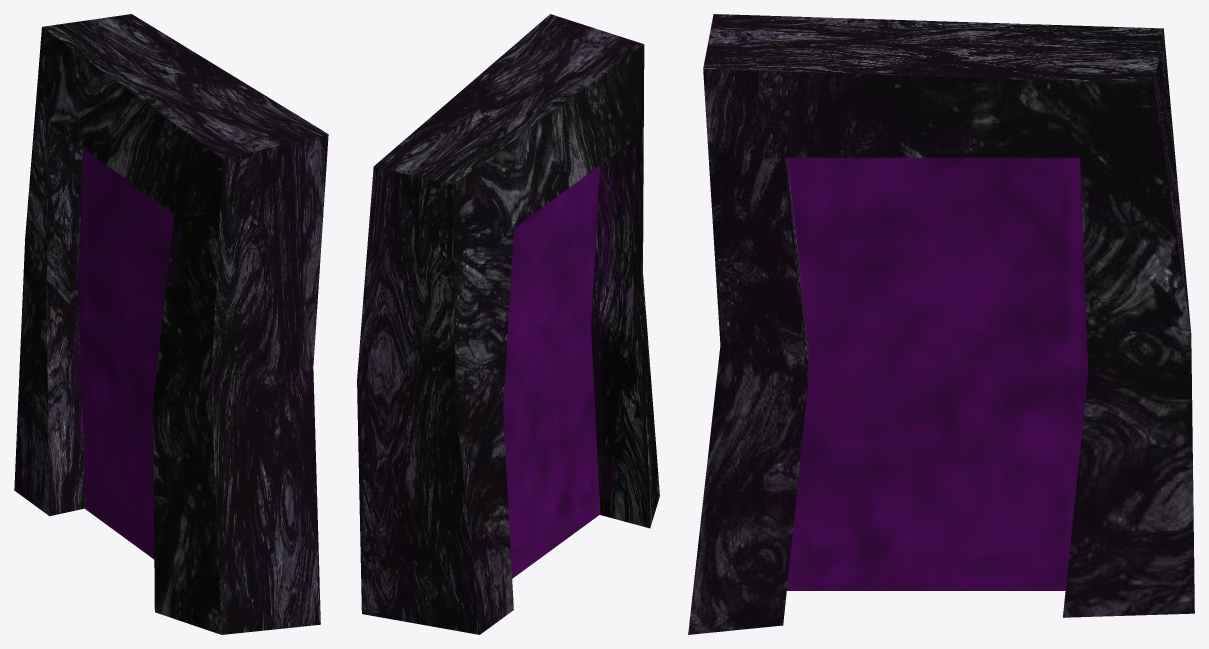
File: portal.obj
3 renders of one model, left to right at view 1: azimuth 30°, elevation 25°; view 2: azimuth 150°, elevation 25°; view 3: azimuth 270°, elevation 25°, orthographic. The views are drawn at different scales.
Visible parts, largest first — view 1: Cube; view 2: Cube; view 3: Cube.
Part boxes in pixels (x1,y1,x2,y2): Cube: (14, 14, 328, 634); Cube: (357, 14, 659, 634); Cube: (688, 14, 1194, 634).
Size of the model in its own units: 0.6381 by 2.13 by 1.7.
